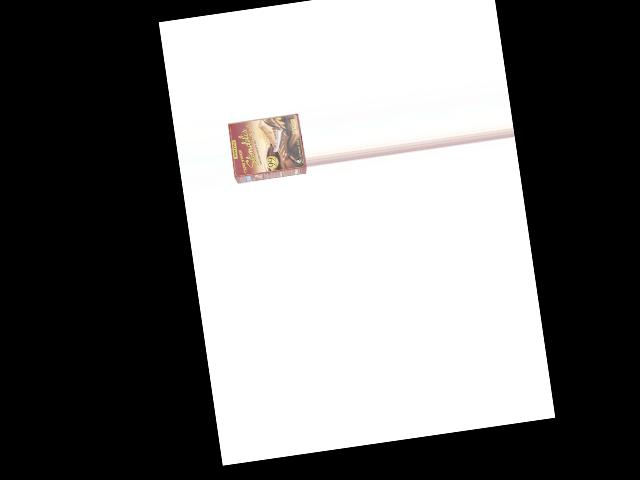chocolate: (224, 106, 308, 187)
